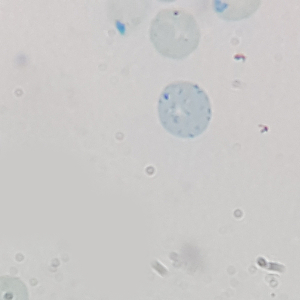aggregate reticulocyte: (157, 81, 213, 140)
punctate reticulocyte: (149, 7, 201, 60)
